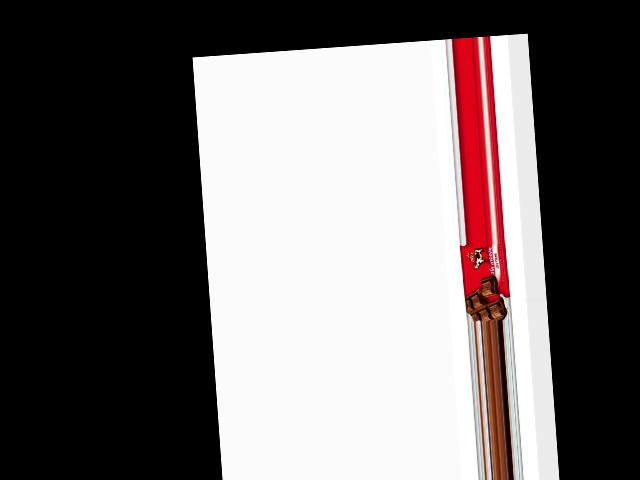chocolate: (461, 241, 512, 322)
